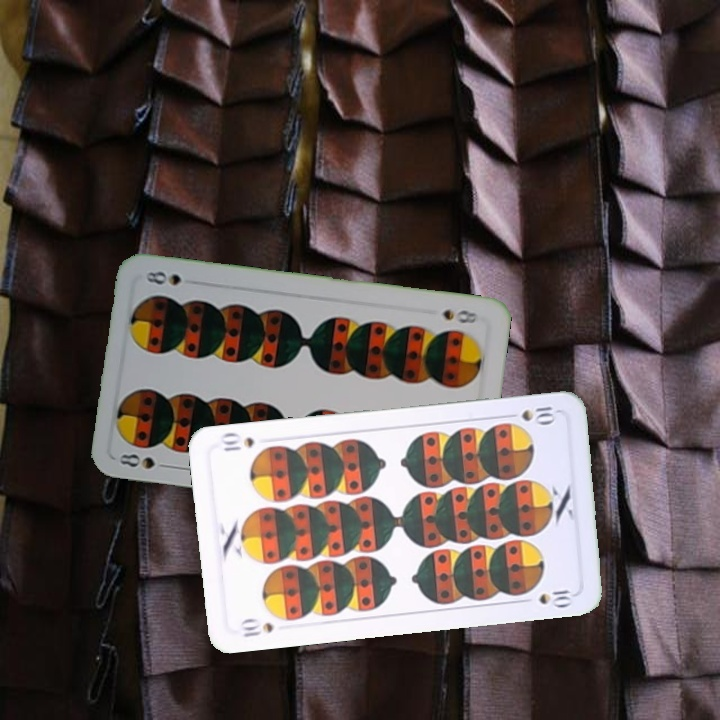S10: (517, 402, 560, 425), (236, 615, 275, 640)
S8: (116, 450, 174, 472), (438, 305, 480, 326)
